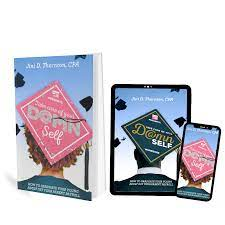book: (12, 52, 102, 202)
